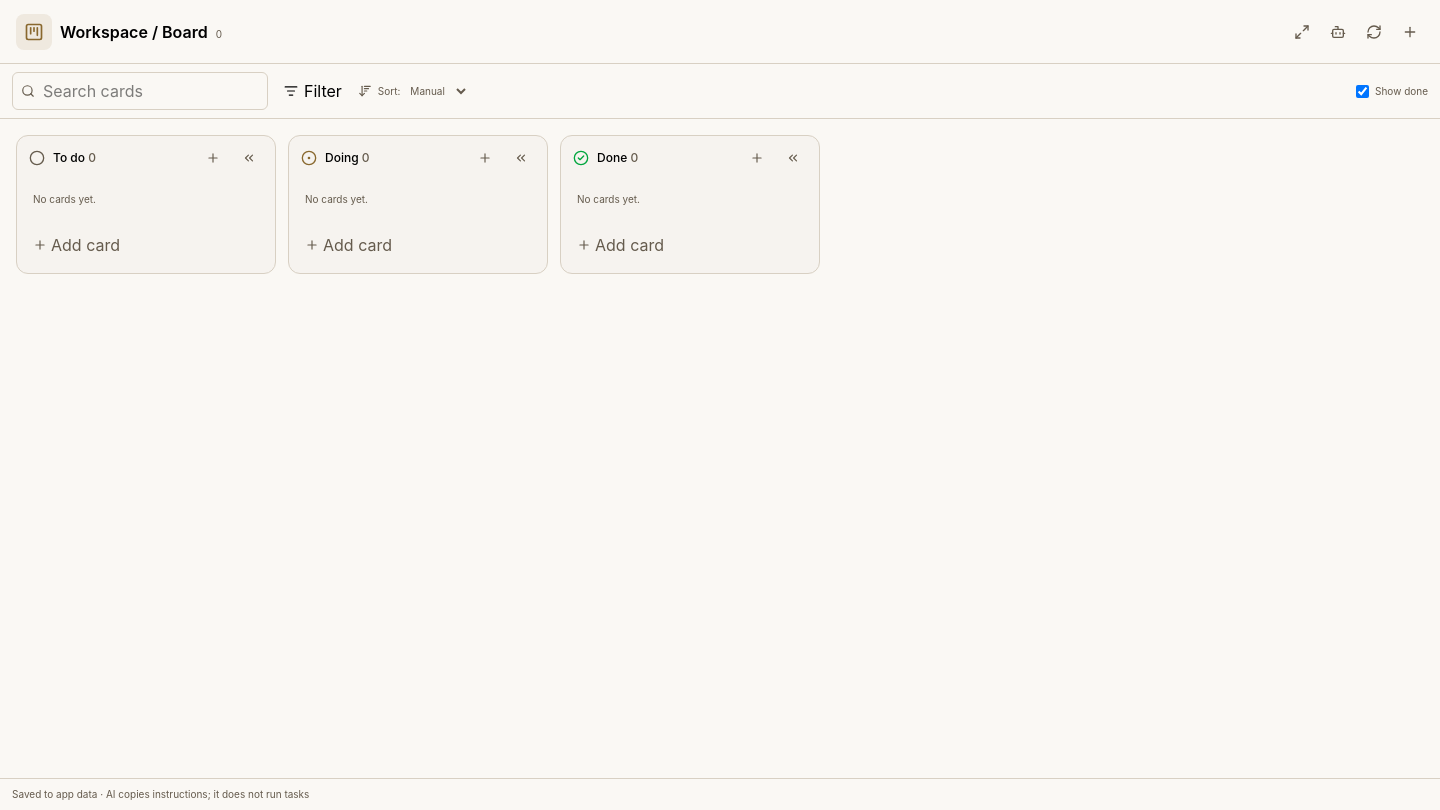
Test: keeps cards separate across workspaces
Click the button named "Add card": x=1410, y=32 [1396, 18, 1424, 46]
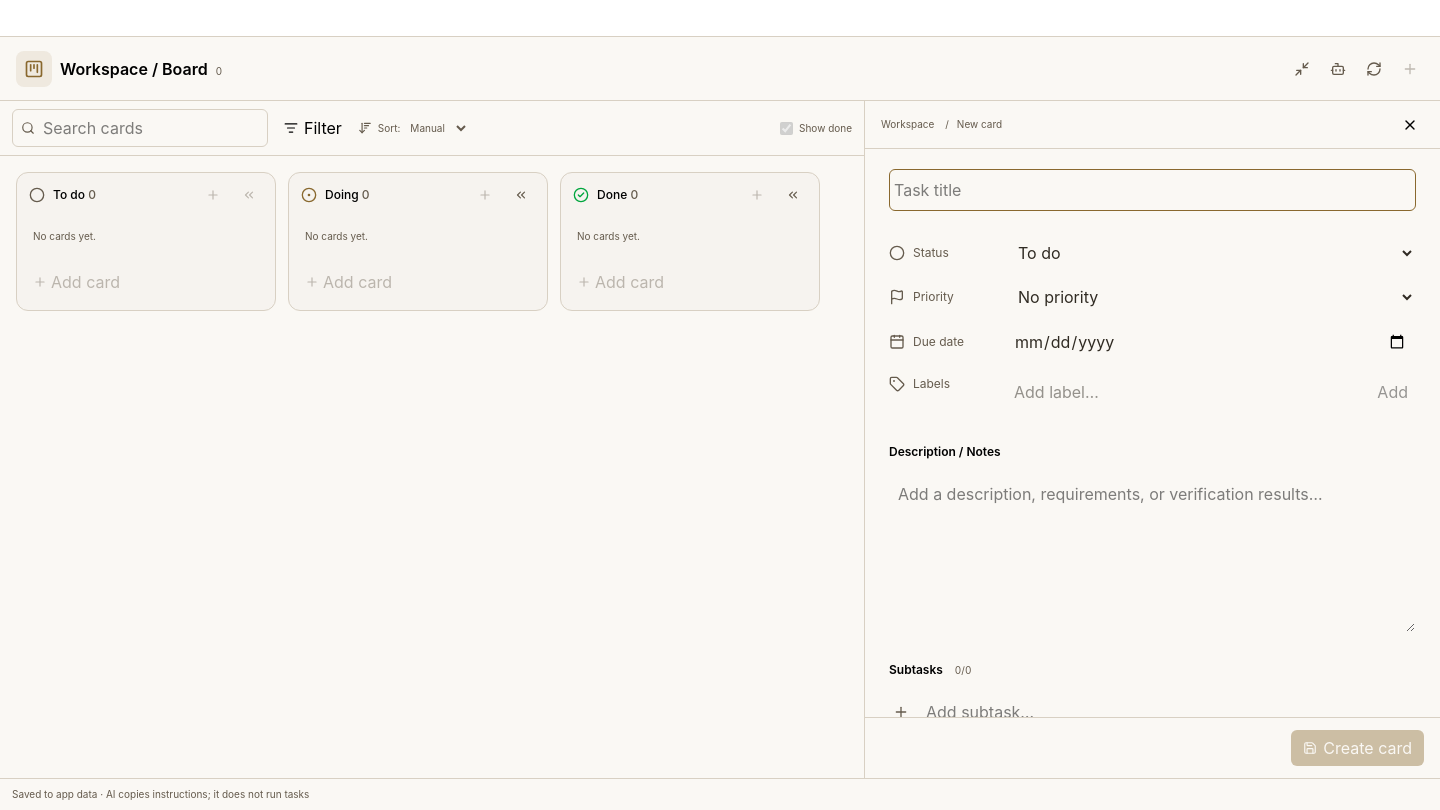
In the field named "Card title": x=1152, y=190 [889, 169, 1416, 211], type "Only in one"
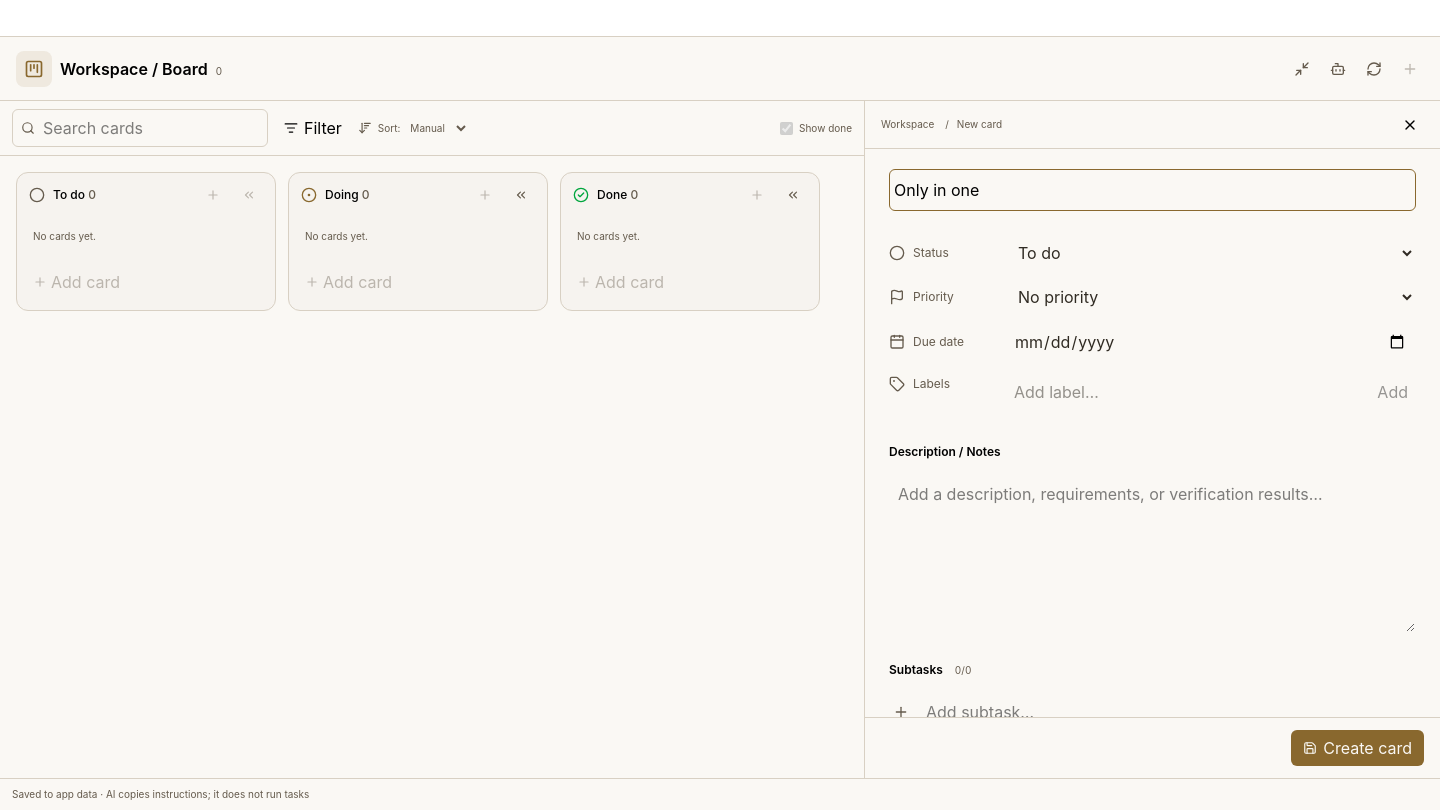
Click the button "Create card": x=1358, y=748 [1291, 730, 1424, 766]
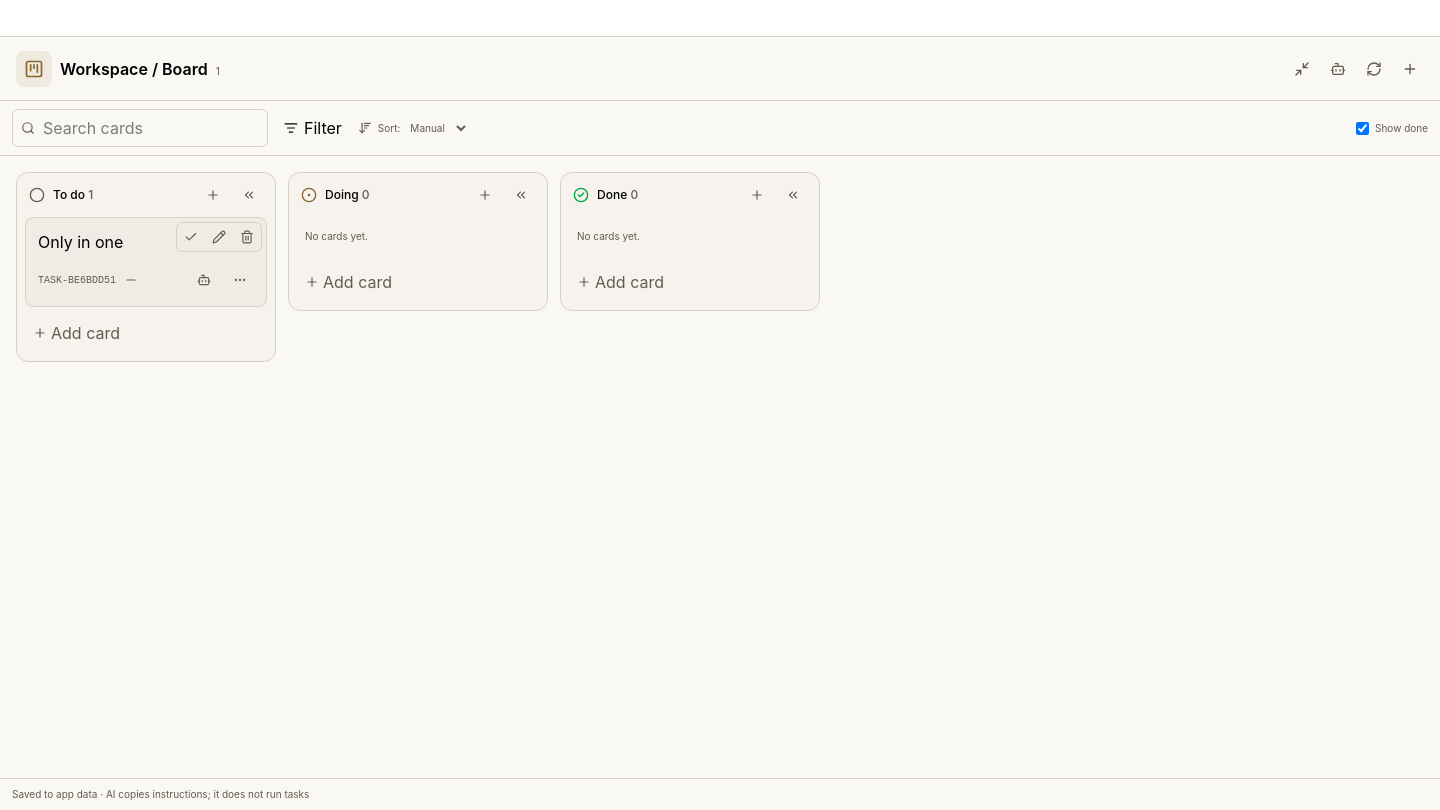
Check: the form is gone
